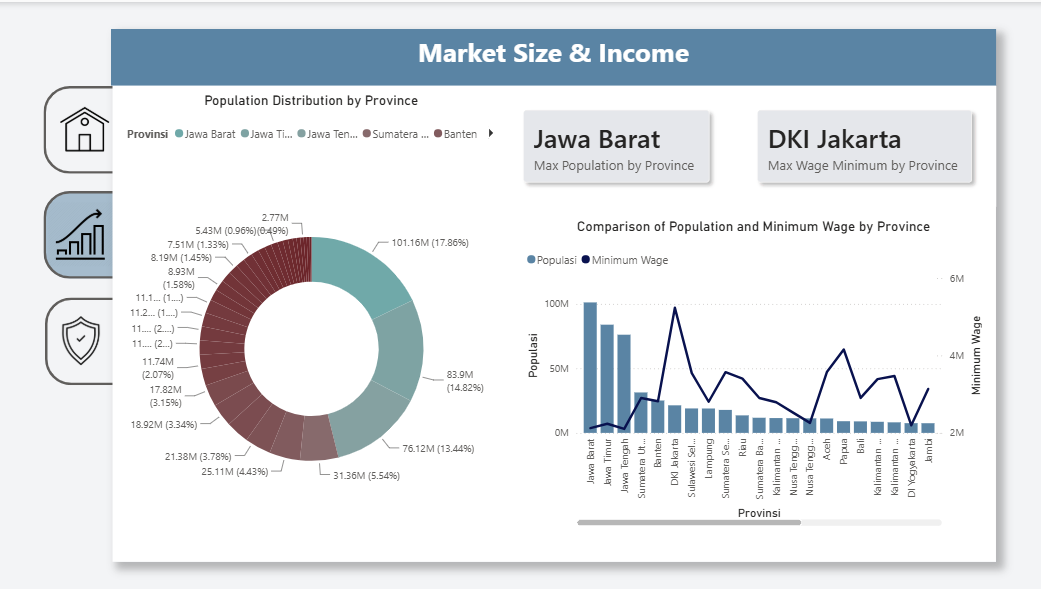

The dashboard page shown, as its layout file describes it:
{"tool":"powerbi","page":{"name":"Market Size & Income","canvas":[1280,720],"ordinal":1},"visuals":[{"type":"actionButton","box":[52.5,102.5,132.5,107.5],"z":0},{"type":"actionButton","box":[55,362.5,132.5,107.5],"z":1000},{"type":"actionButton","box":[52.5,232.5,132.5,107.5],"z":2000},{"type":"shape","box":[137.5,32.5,1082.5,652.5],"z":3000},{"type":"image","box":[62.5,115,82.5,80],"z":4000},{"type":"image","box":[57.5,245,82.5,80],"z":5000},{"type":"image","box":[40,375,117.5,80],"z":6000},{"type":"textbox","box":[136.5,32.3,1084.8,69.5],"z":7000},{"type":"donutChart","title":"Population Distribution by Province","fields":{"Category":["Dim_Provinsi.Provinsi"],"Y":["Dim_Provinsi.Populasi"]},"box":[150.7,110.3,461.4,569.8],"z":9000},{"type":"lineClusteredColumnComboChart","title":"Comparison of Population and Minimum Wage by Province","fields":{"Category":["Dim_Provinsi.Provinsi"],"Y":["Dim_Provinsi.Populasi"],"Y2":["Dim_Provinsi.Avg_Salary"]},"box":[639.7,264.7,568,382.3],"z":11000},{"type":"cardVisual","fields":{"Data":["Min(Dim_Provinsi.Provinsi)"]},"box":[898.9,102.9,321.7,147.1],"z":12000},{"type":"cardVisual","fields":{"Data":["Min(Dim_Provinsi.Provinsi)"]},"box":[612.1,102.9,286.8,147.1],"z":13000}]}

Visuals, with their boxes in screenshot pixels (x1, y1, x2, y2), scaled from the page's 1280x720 canvas onto the 1041x589 screenshot:
actionButton: bbox=[43, 84, 150, 172]
actionButton: bbox=[45, 297, 152, 384]
actionButton: bbox=[43, 190, 150, 278]
shape: bbox=[112, 27, 992, 560]
image: bbox=[51, 94, 118, 160]
image: bbox=[47, 200, 114, 266]
image: bbox=[33, 307, 128, 372]
textbox: bbox=[111, 26, 993, 83]
"Population Distribution by Province" donutChart: bbox=[123, 90, 498, 556]
"Comparison of Population and Minimum Wage by Province" lineClusteredColumnComboChart: bbox=[520, 217, 982, 529]
cardVisual - Min(Dim_Provinsi.Provinsi): bbox=[731, 84, 993, 205]
cardVisual - Min(Dim_Provinsi.Provinsi): bbox=[498, 84, 731, 205]
